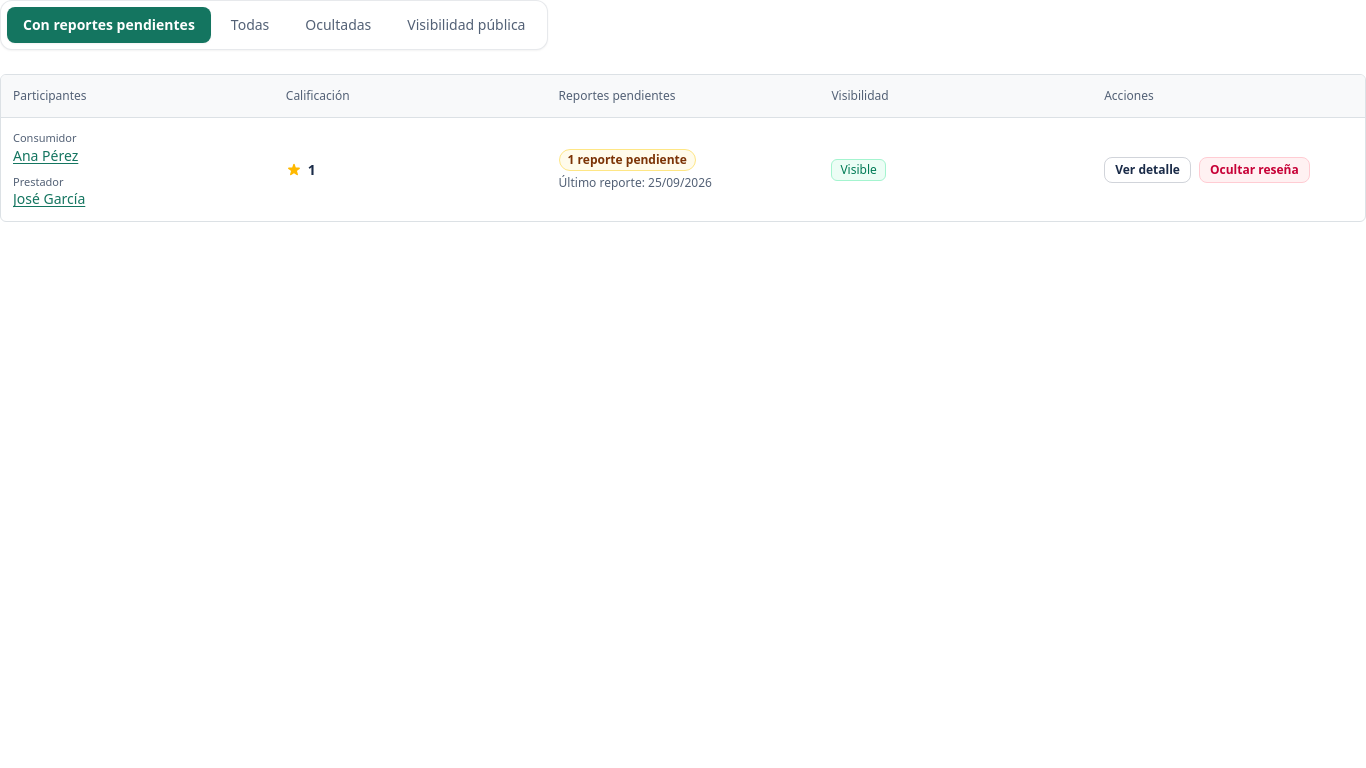
Test: ModerationPage › opens a neutral detail view without presenting or submitting a moderation form
The width and height of the screenshot is (1366, 768).
Check: the link "Ana Pérez" is shown, box [13, 146, 78, 165]
Click the button "Ver detalle": click(1148, 170) [1104, 157, 1191, 183]
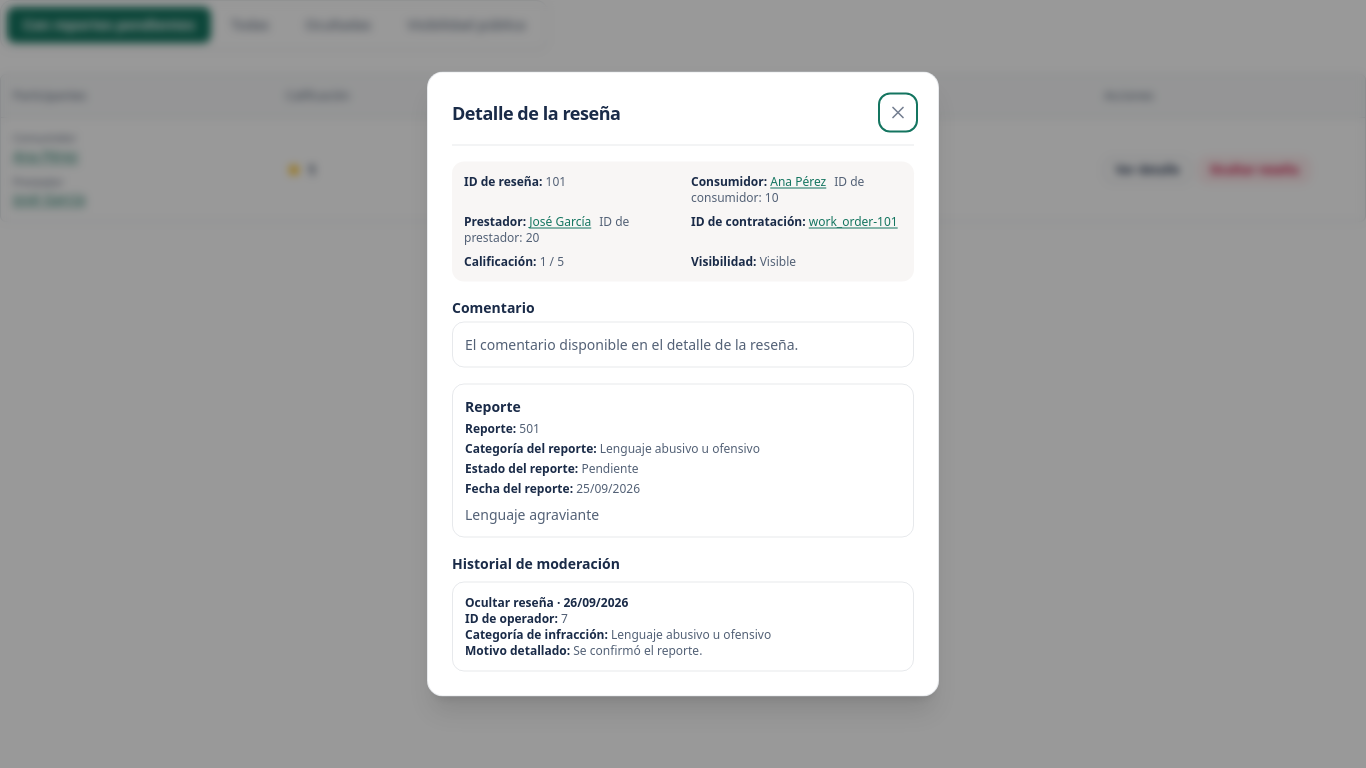
Check: the heading "Detalle de la reseña" is shown, box [452, 98, 620, 126]
Check: the text "El comentario disponible en el detalle de la reseña." is shown, box [452, 322, 914, 368]
Check: the text "ID de reseña:" is shown, box [464, 172, 546, 190]
Press Escape
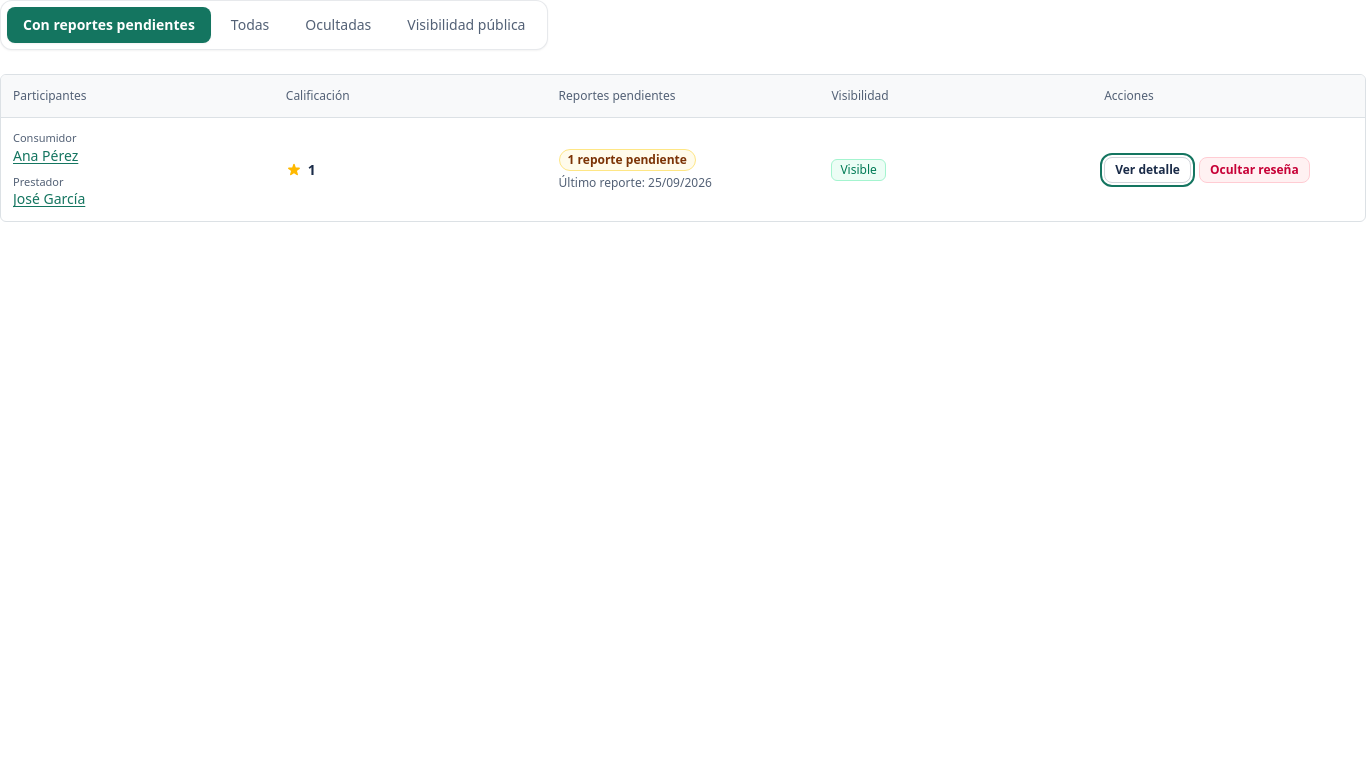
Check: the dialog is gone
